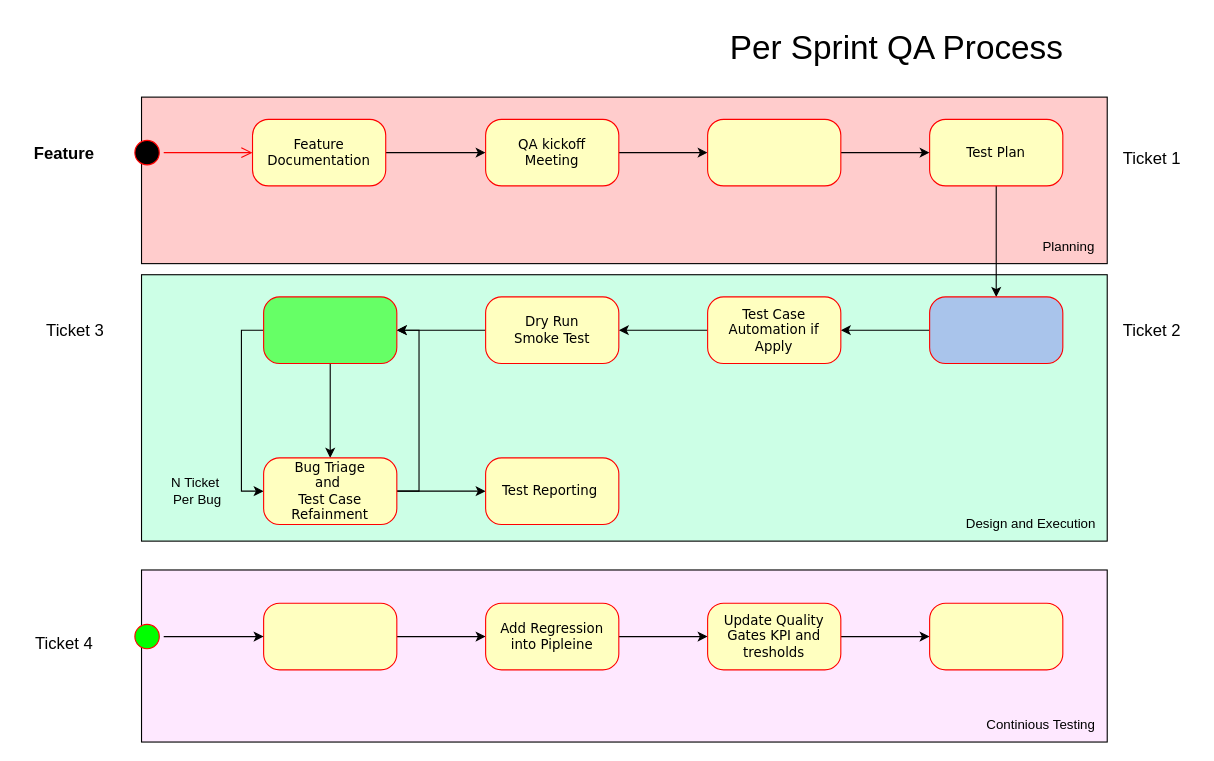
Some shapes in this 1214 by 761 pixel diagram are drawn without their labels. Each missing label, with the centre of its shape:
"Improve Execution Logs anda data feed" goes at pixel 996 636.
"Incorporate TC into Regression suite" goes at pixel 330 636.
"Requirements Scope Test Case Design" goes at pixel 774 152.
"Test Case Design and review" goes at pixel 996 330.
"Test Execution" goes at pixel 330 330.
